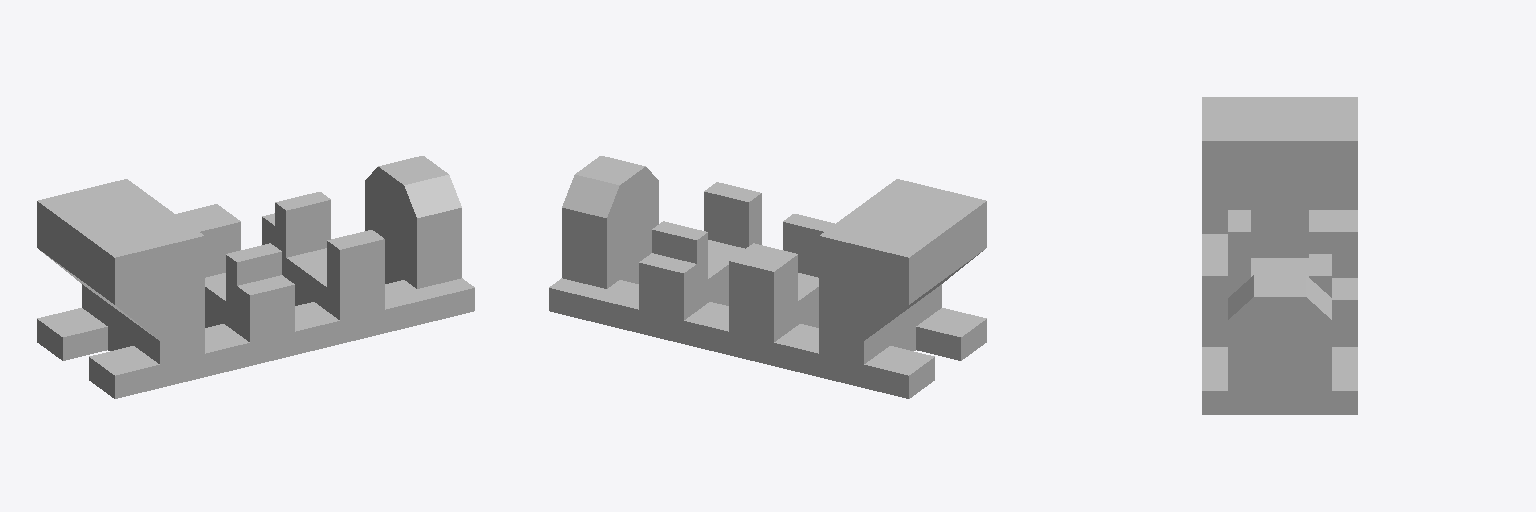
The model's file is rotarykiln_base.obj.
The picture shows the model from 3 angles: view 1: azimuth 30°, elevation 25°; view 2: azimuth 150°, elevation 25°; view 3: azimuth 270°, elevation 25°; orthographic projection.
Visible parts, largest first — view 1: Base_Cube.003; view 2: Base_Cube.003; view 3: Base_Cube.003.
Boxes of the visible parts, x1,y1,x2,y2 form: Base_Cube.003: [37, 156, 474, 398]; Base_Cube.003: [549, 156, 986, 398]; Base_Cube.003: [1202, 97, 1357, 414].
Bounding box in the file's own units: 8 × 3 × 3.